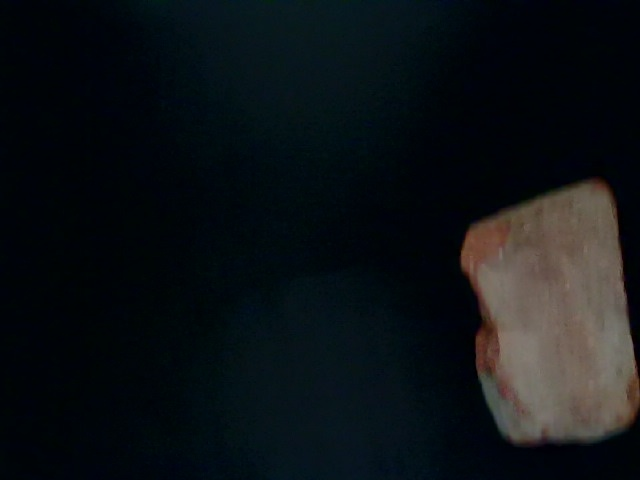KHSLJ: (134, 23, 450, 371)
